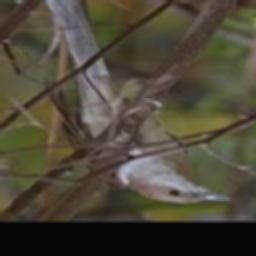Cuckoo: (40, 0, 227, 203)
